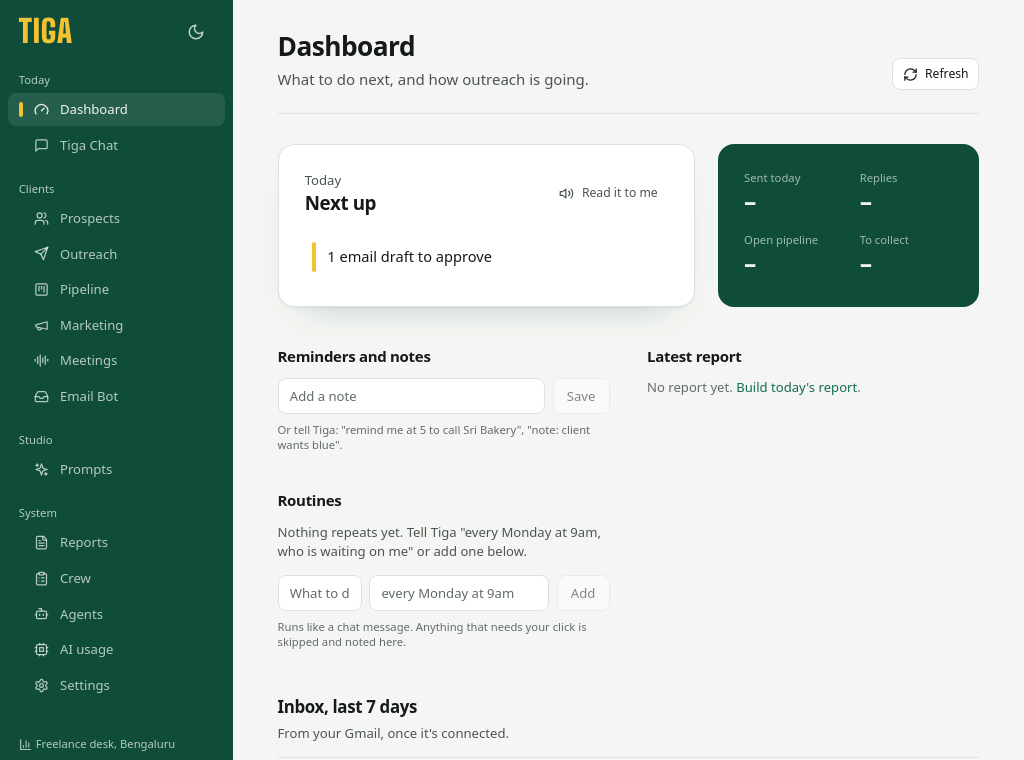
Dashboard › reloads the numbers when Refresh is pressed
Click the button "Refresh". click: x=936, y=74
box: top-left (892, 58), bottom-right (979, 90)
(page scrolled)
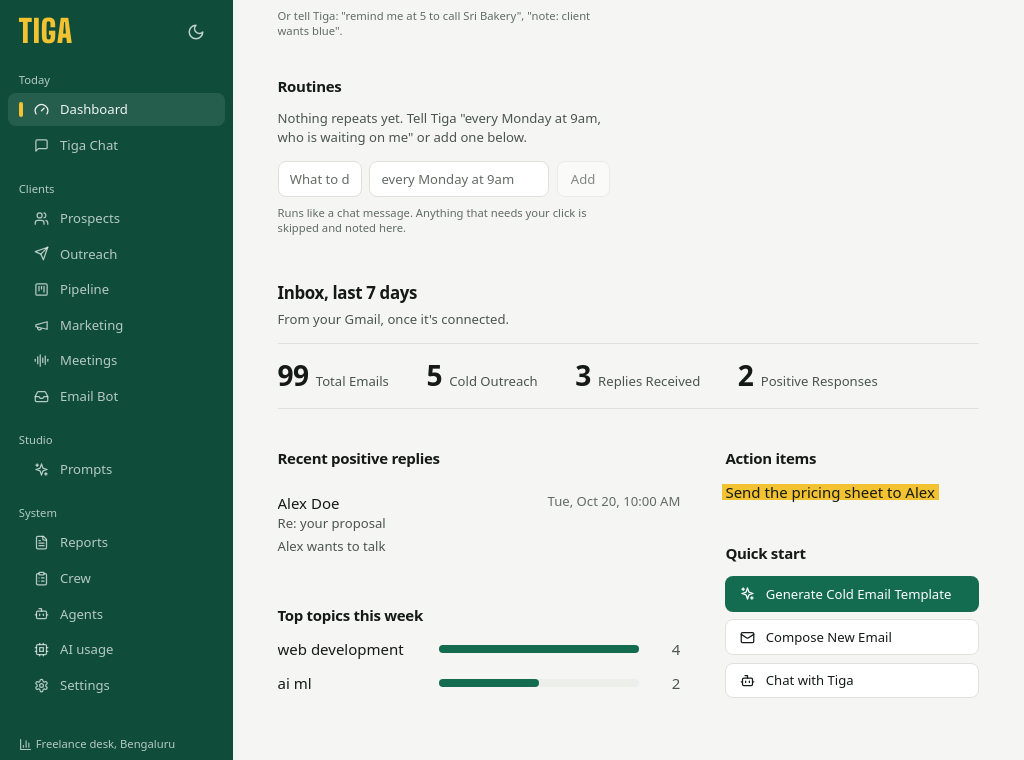
Now the text "99" is shown, box top-left (278, 359), bottom-right (308, 393)
